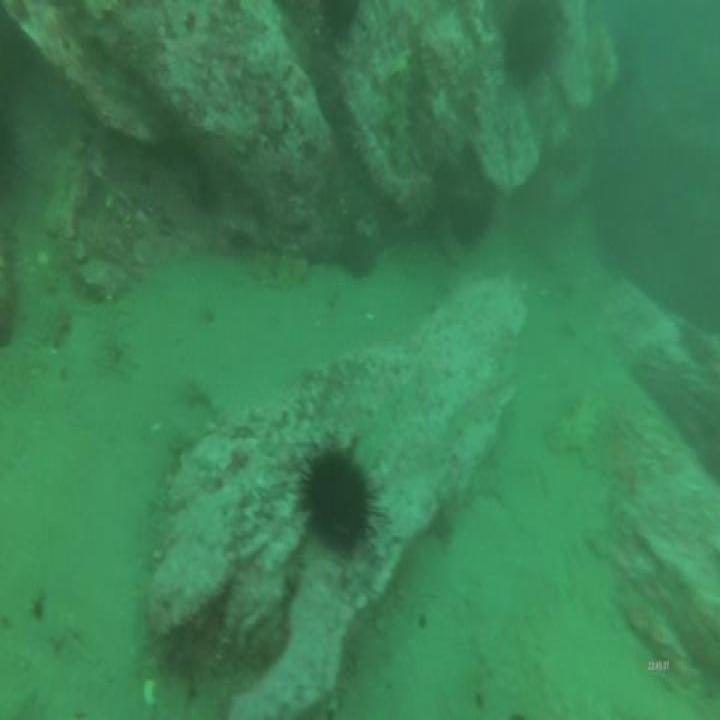echinus: (295, 432, 381, 569), (502, 0, 565, 89), (443, 187, 498, 254), (337, 222, 376, 283), (321, 0, 365, 48)
holothurian: (234, 238, 311, 299), (384, 67, 417, 185)
